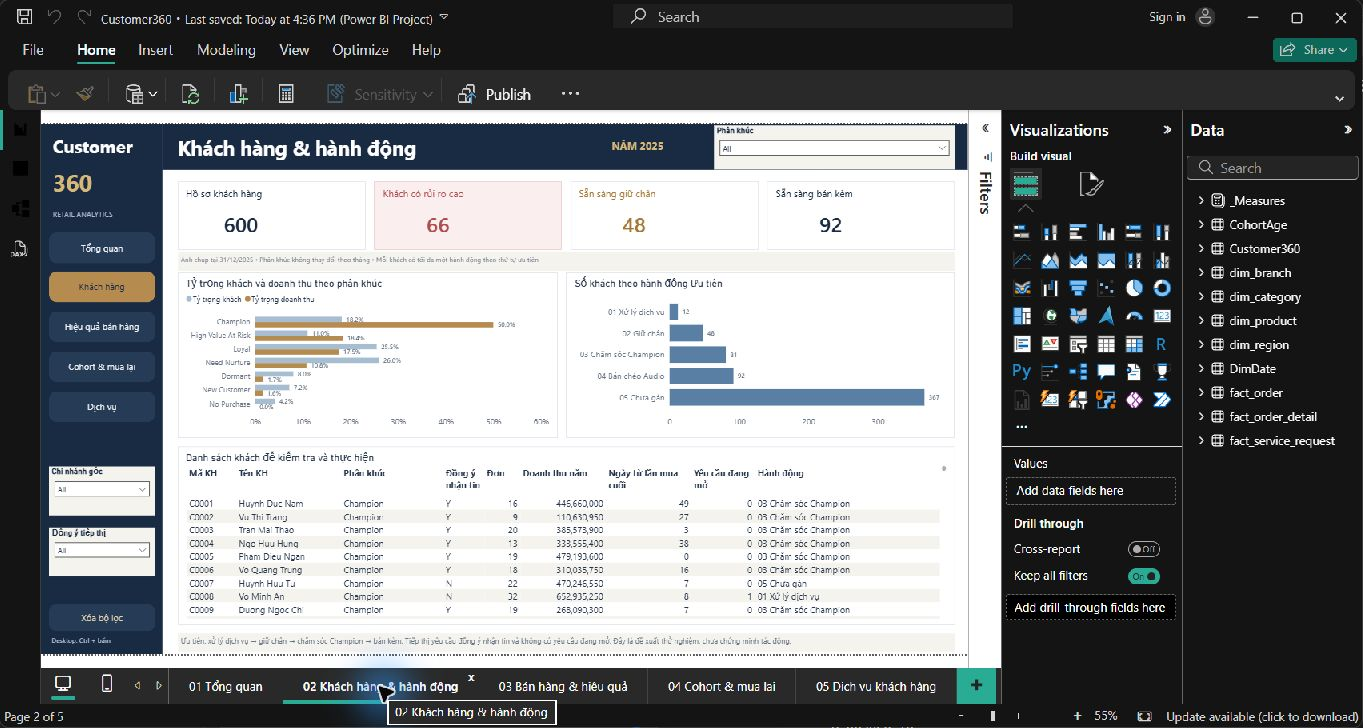

The page's visual inventory and layout, read from the dashboard file:
{"tool":"powerbi","page":{"name":"02 Khách hàng & hành động","canvas":[1680,960],"ordinal":1},"visuals":[{"type":"textbox","box":[0,0,220,960],"z":0},{"type":"textbox","box":[220,0,1460,82],"z":0},{"type":"actionButton","box":[248,104,340,124],"z":1},{"type":"actionButton","box":[604,104,340,124],"z":1},{"type":"actionButton","box":[960,104,340,124],"z":1},{"type":"actionButton","box":[1316,104,340,124],"z":1},{"type":"actionButton","box":[248,268,688,300],"z":1},{"type":"actionButton","box":[952,268,704,300],"z":1},{"type":"actionButton","box":[248,584,1408,324],"z":1},{"type":"textbox","box":[248,230,1408,35],"z":16},{"type":"slicer","title":"Chi nhánh gốc","fields":{"Values":["Customer360.home_branch_name"]},"box":[14,620,192,89],"z":17},{"type":"slicer","title":"Phân khúc","fields":{"Values":["Customer360.segment"]},"box":[1220,1,436,80],"z":18},{"type":"slicer","title":"Đồng ý tiếp thị","fields":{"Values":["Customer360.marketing_opt_in"]},"box":[14,730,192,89],"z":19},{"type":"actionButton","box":[14,195,192,56],"z":20},{"type":"actionButton","box":[14,267,192,56],"z":20},{"type":"actionButton","box":[14,339,192,56],"z":20},{"type":"actionButton","box":[14,411,192,56],"z":20},{"type":"actionButton","box":[14,483,192,56],"z":20},{"type":"actionButton","box":[14,870,192,48],"z":20},{"type":"textbox","box":[248,923,1408,33],"z":27},{"type":"clusteredBarChart","title":"Tỷ trọng khách và doanh thu theo phân khúc","fields":{"Category":["Customer360.segment"],"Y":["_Measures.Snapshot Customer Share","_Measures.Snapshot Revenue Share"]},"box":[258,276,668,284],"z":45},{"type":"clusteredBarChart","title":"Số khách theo hành động ưu tiên","fields":{"Category":["Customer360.next_action"],"Y":["_Measures.Snapshot Customers"]},"box":[962,276,684,284],"z":45},{"type":"tableEx","title":"Danh sách khách để kiểm tra và thực hiện","fields":{"Values":["Customer360.customer_id","Customer360.full_name","Customer360.segment","Customer360.marketing_opt_in","Customer360.completed_orders","Customer360.total_revenue","Customer360.recency_days","Customer360.open_requests","Customer360.next_action"]},"box":[258,592,1388,308],"z":45},{"type":"card","fields":{"Values":["_Measures.Snapshot Customers"]},"box":[256,144,214,76],"z":60},{"type":"card","fields":{"Values":["_Measures.At Risk Customers"]},"box":[612,144,214,76],"z":60},{"type":"card","fields":{"Values":["_Measures.Retention Eligible"]},"box":[968,144,214,76],"z":60},{"type":"card","fields":{"Values":["_Measures.Cross Sell Assigned"]},"box":[1324,144,214,76],"z":60},{"type":"textbox","box":[16,12,196,70],"z":80},{"type":"textbox","box":[242,12,790,65],"z":80},{"type":"textbox","box":[1030,21,170,48],"z":80},{"type":"textbox","box":[16,73,196,76],"z":80},{"type":"textbox","box":[258,108,318,42],"z":80},{"type":"textbox","box":[614,108,318,42],"z":80},{"type":"textbox","box":[970,108,318,42],"z":80},{"type":"textbox","box":[1326,108,318,42],"z":80},{"type":"textbox","box":[16,149,196,40],"z":80},{"type":"textbox","box":[14,921,196,33],"z":80}]}

Visuals, with their boxes on the page's 1680x960 design canvas (x1, y1, x2, y2). These are canvas units, not pixel positions in the 1363x728 screenshot, which may show the page scaled, cropped or inside an application window:
textbox: 0:0:220:960
textbox: 220:0:1680:82
actionButton: 248:104:588:228
actionButton: 604:104:944:228
actionButton: 960:104:1300:228
actionButton: 1316:104:1656:228
actionButton: 248:268:936:568
actionButton: 952:268:1656:568
actionButton: 248:584:1656:908
textbox: 248:230:1656:265
"Chi nhánh gốc" slicer: 14:620:206:709
"Phân khúc" slicer: 1220:1:1656:81
"Đồng ý tiếp thị" slicer: 14:730:206:819
actionButton: 14:195:206:251
actionButton: 14:267:206:323
actionButton: 14:339:206:395
actionButton: 14:411:206:467
actionButton: 14:483:206:539
actionButton: 14:870:206:918
textbox: 248:923:1656:956
"Tỷ trọng khách và doanh thu theo phân khúc" clusteredBarChart: 258:276:926:560
"Số khách theo hành động ưu tiên" clusteredBarChart: 962:276:1646:560
"Danh sách khách để kiểm tra và thực hiện" tableEx: 258:592:1646:900
card - _Measures.Snapshot Customers: 256:144:470:220
card - _Measures.At Risk Customers: 612:144:826:220
card - _Measures.Retention Eligible: 968:144:1182:220
card - _Measures.Cross Sell Assigned: 1324:144:1538:220
textbox: 16:12:212:82
textbox: 242:12:1032:77
textbox: 1030:21:1200:69
textbox: 16:73:212:149
textbox: 258:108:576:150
textbox: 614:108:932:150
textbox: 970:108:1288:150
textbox: 1326:108:1644:150
textbox: 16:149:212:189
textbox: 14:921:210:954
